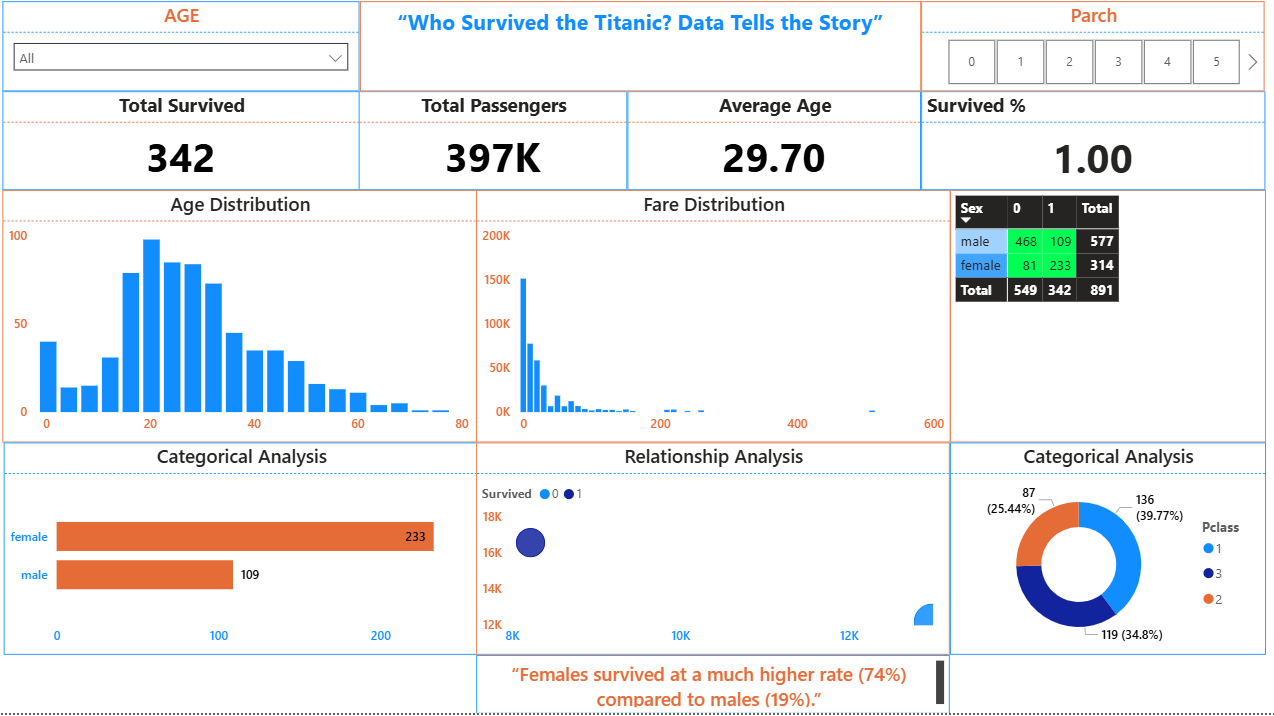

The dashboard page shown, as its layout file describes it:
{"tool":"powerbi","page":{"name":"Page 1","canvas":[1280,720],"ordinal":0},"visuals":[{"type":"card","title":"Total Survived","fields":{"Values":["Sum(train.Survived)"]},"box":[12.4,100.8,355.8,98.3],"z":0},{"type":"card","title":"Total Passengers","fields":{"Values":["Sum(train.PassengerId)"]},"box":[367,100.8,267.5,98.3],"z":1},{"type":"card","title":"Average Age","fields":{"Values":["Avg(train.Age)"]},"box":[634.4,100.8,292.3,98.3],"z":2},{"type":"columnChart","title":"Age Distribution","fields":{"Y":["CountNonNull(train.PassengerId)"],"Category":["train.Age (bins)"]},"box":[13,199.1,471.8,251],"z":3},{"type":"columnChart","title":"Fare Distribution","fields":{"Y":["Sum(train.PassengerId)"],"Category":["train.Fare (bins)"]},"box":[483.3,199.1,471.8,251],"z":4},{"type":"barChart","title":"Categorical Analysis","fields":{"Category":["train.Sex"],"Y":["Sum(train.Survived)"]},"box":[13.2,450.6,472.2,210.9],"z":5},{"type":"scatterChart","title":"Relationship Analysis","fields":{"X":["Sum(train.Age)"],"Y":["Sum(train.Fare)"],"Series":["train.Survived"],"Size":["CountNonNull(train.PassengerId)"]},"box":[484.2,450.6,471,210.9],"z":6},{"type":"pivotTable","fields":{"Rows":["train.Sex"],"Values":["Count(train.PassengerId)"],"Columns":["train.Survived"]},"box":[955.1,199.1,314.5,251],"z":7},{"type":"donutChart","title":"Categorical Analysis","fields":{"Y":["Sum(train.Survived)"],"Category":["train.Pclass"]},"box":[955.2,450.6,314,210.9],"z":8},{"type":"card","title":"Survived %","fields":{"Values":["gender_submission.Survival %"]},"box":[926.7,100.8,342.1,98.3],"z":9},{"type":"slicer","title":"AGE","fields":{"Values":["train.Age"]},"box":[13,11.5,354.9,89.5],"z":11},{"type":"slicer","title":"Parch","fields":{"Values":["train.Parch"]},"box":[926.3,11.5,341.9,89.5],"z":12},{"type":"textbox","box":[367.9,11.5,558.3,89.5],"z":13},{"type":"textbox","box":[483.9,661.8,471.5,58.5],"z":14}]}

Visuals, with their boxes in screenshot pixels (x1, y1, x2, y2), scaled from the page's 1280x720 canvas onto the 1274x716 screenshot:
"Total Survived" card: bbox=(12, 100, 366, 198)
"Total Passengers" card: bbox=(365, 100, 632, 198)
"Average Age" card: bbox=(631, 100, 922, 198)
"Age Distribution" columnChart: bbox=(13, 198, 483, 448)
"Fare Distribution" columnChart: bbox=(481, 198, 951, 448)
"Categorical Analysis" barChart: bbox=(13, 448, 483, 658)
"Relationship Analysis" scatterChart: bbox=(482, 448, 951, 658)
pivotTable - train.Sex x Count(train.PassengerId): bbox=(951, 198, 1264, 448)
"Categorical Analysis" donutChart: bbox=(951, 448, 1263, 658)
"Survived %" card: bbox=(922, 100, 1263, 198)
"AGE" slicer: bbox=(13, 11, 366, 100)
"Parch" slicer: bbox=(922, 11, 1262, 100)
textbox: bbox=(366, 11, 922, 100)
textbox: bbox=(482, 658, 951, 715)
